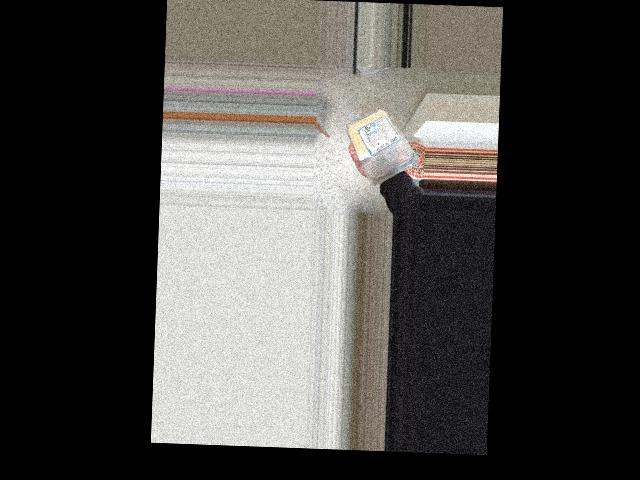cheese: (350, 105, 415, 179)
